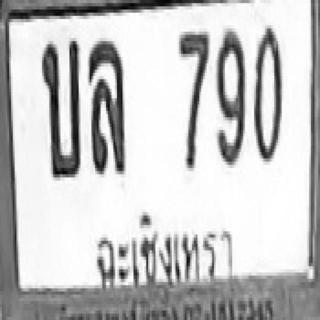A26: (40, 38, 80, 178)
A36: (88, 38, 126, 174)
N00: (252, 24, 282, 160)
N07: (178, 28, 208, 168)
N09: (216, 29, 243, 165)
P07: (92, 209, 238, 290)
